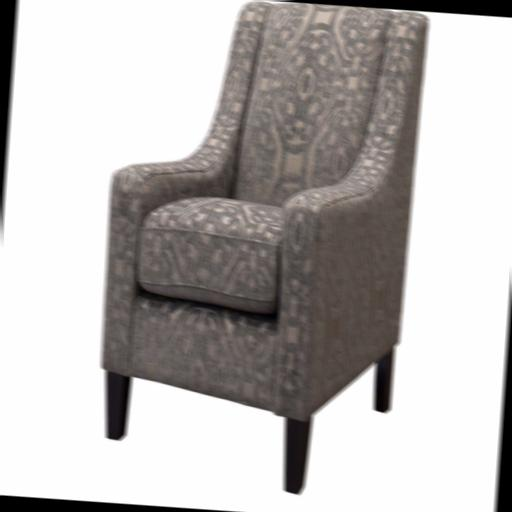chair: (88, 0, 428, 501)
